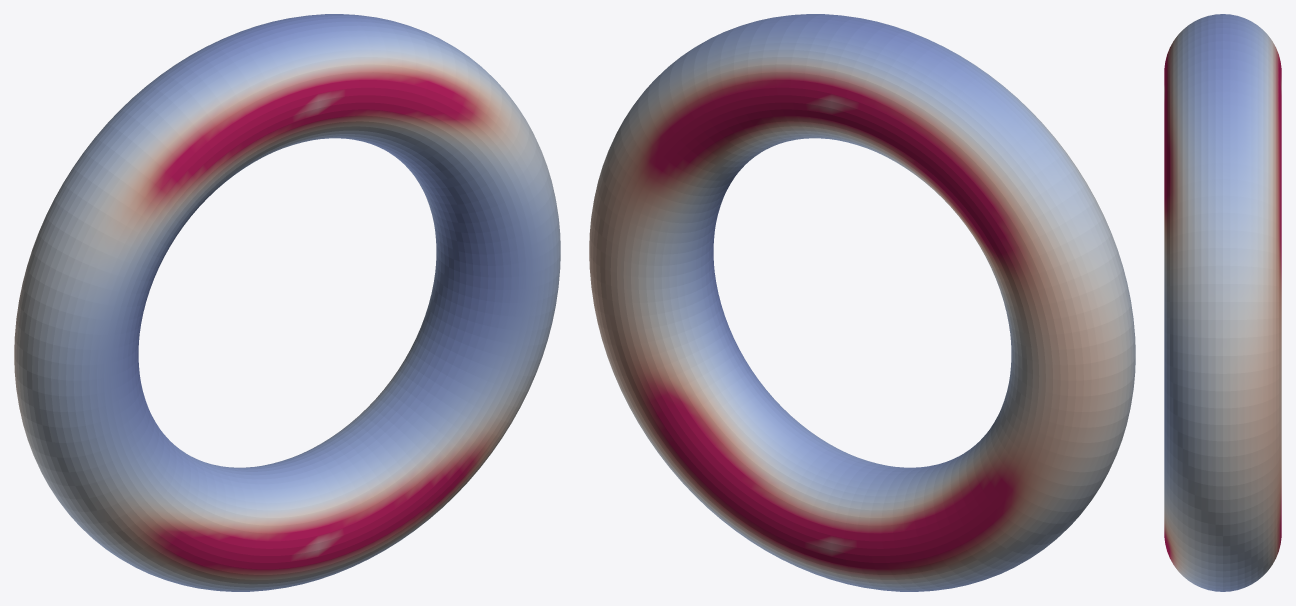
The picture shows the model from 3 angles, left to right: view 1: azimuth 30°, elevation 25°; view 2: azimuth 150°, elevation 25°; view 3: azimuth 270°, elevation 25°; orthographic projection. The views are drawn at different scales.
Visible parts, largest first — view 1: world; view 2: world; view 3: world.
Boxes of the visible parts, box(x1,y1,x2,y2) form: world: box(14, 14, 560, 591); world: box(589, 14, 1135, 591); world: box(1164, 14, 1281, 591).
Bounding box in the file's own units: 24.27 × 24.27 × 4.92.
